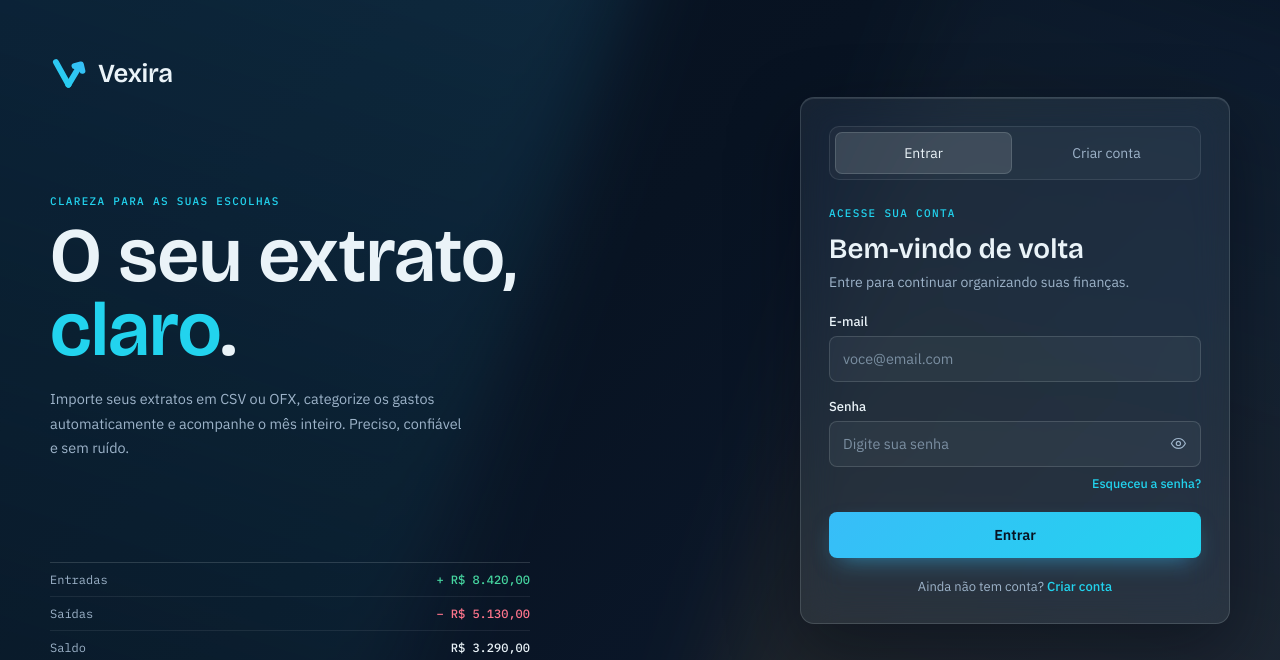
AuthPage › força da senha (cadastro) › senha comum aparece na checklist como fácil de adivinhar e não envia
This screenshot has width=1280, height=660.
Click the tab "Criar conta" at (1106, 152), box [1018, 132, 1195, 174]
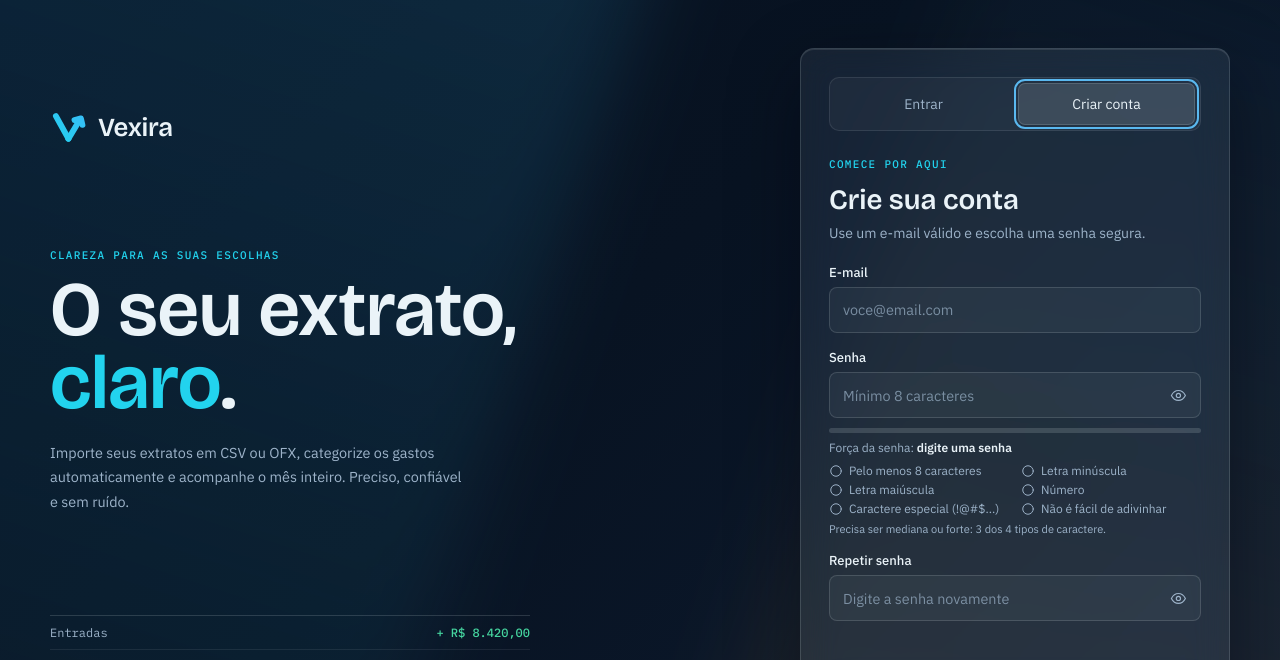
Type "nova@teste.com" into the field labelled "E-mail" at (1015, 310), box [829, 287, 1201, 333]
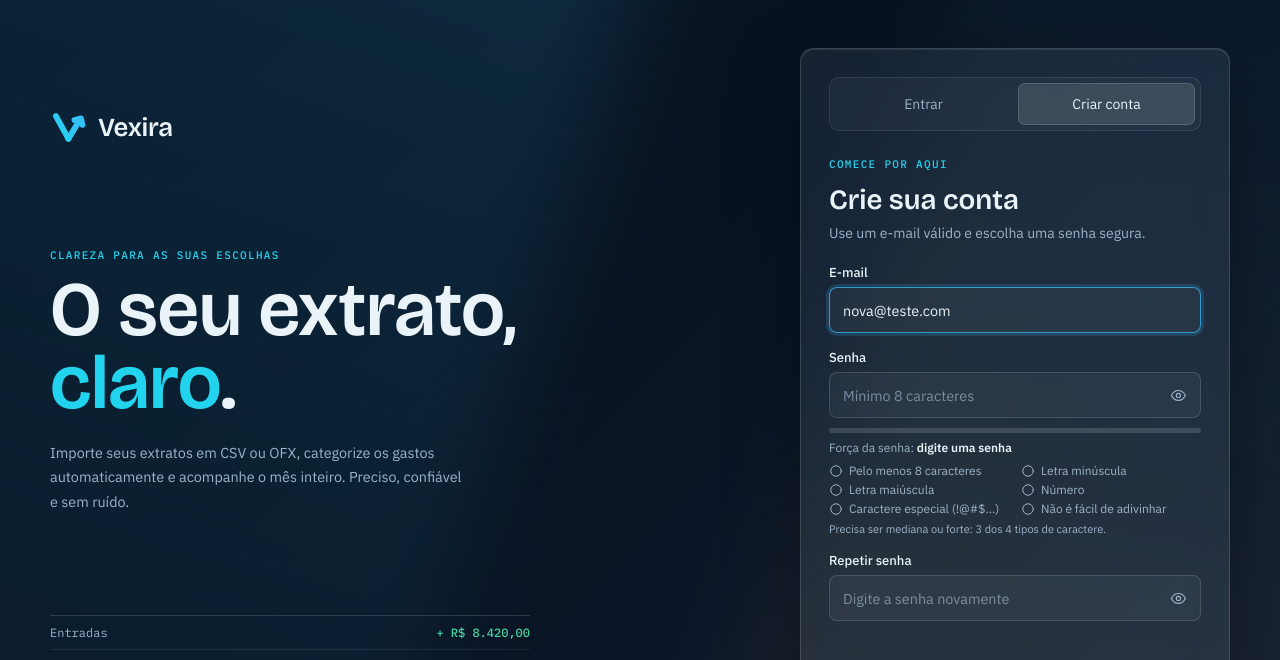
Type "Senha123!" into the password field labelled "Senha" at (1015, 395), box [829, 372, 1201, 418]
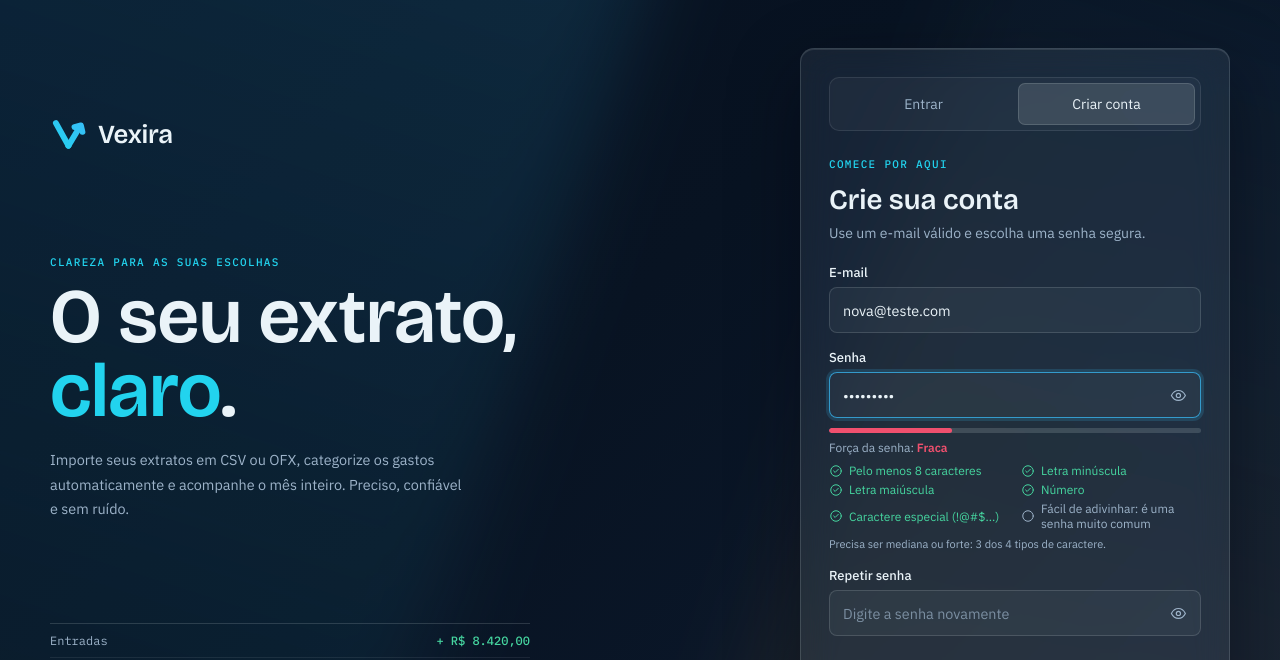
Expected: the element showing "Força da senha: Fraca" is shown, [829, 440, 948, 455]
Type "Senha123!" into the password field labelled "Repetir senha" at (1015, 613), box [829, 590, 1201, 636]
(page scrolled)
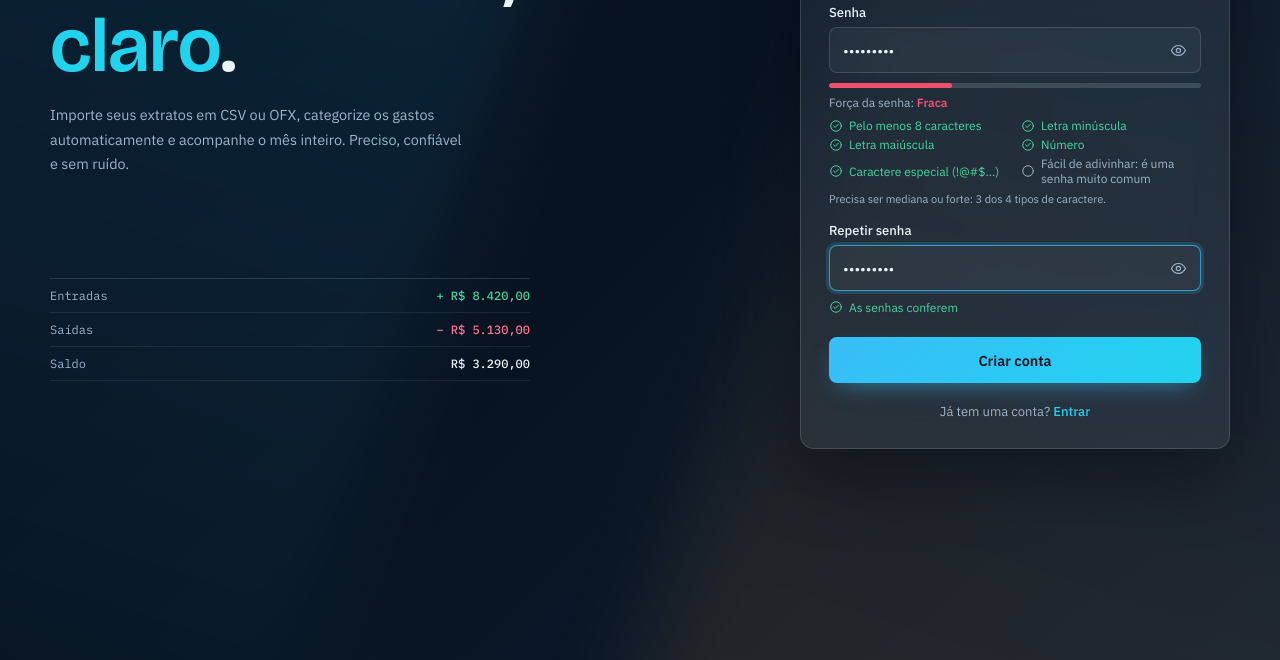
Click the button "Criar conta" at (1015, 360), box [829, 337, 1201, 383]
(page scrolled)
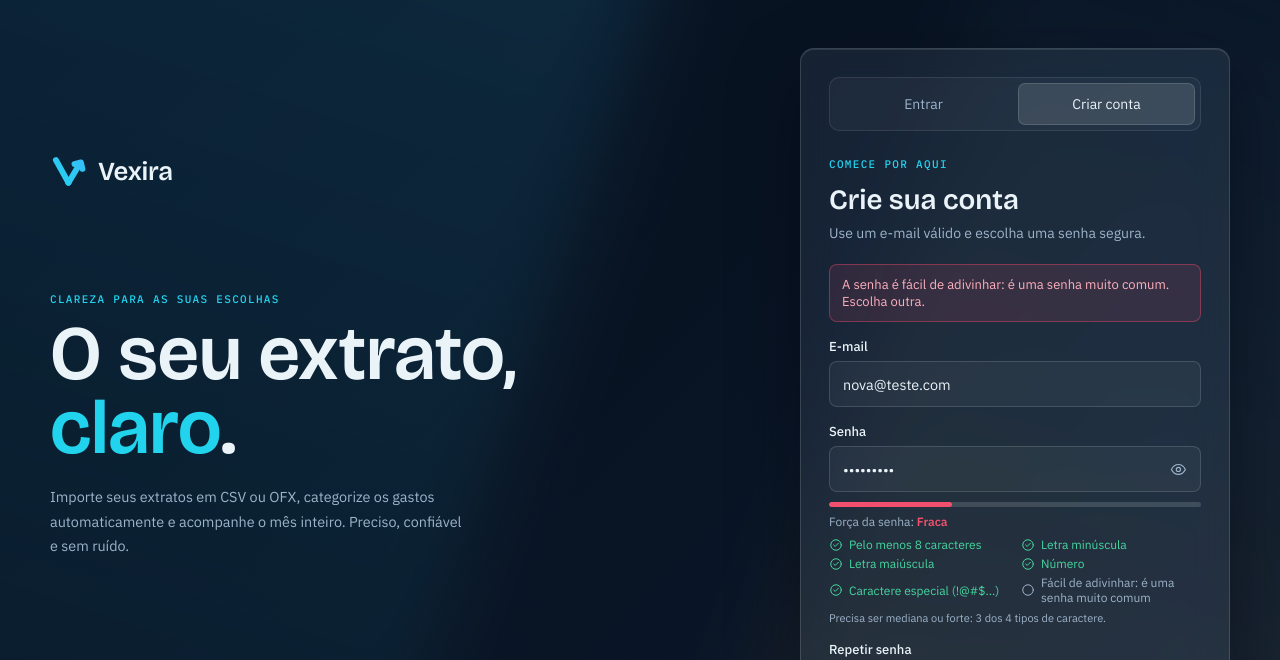
Expected: the message reads "A senha é fácil de adivinhar: é uma senha muito comum. Escolha outra.", [842, 276, 1169, 310]
